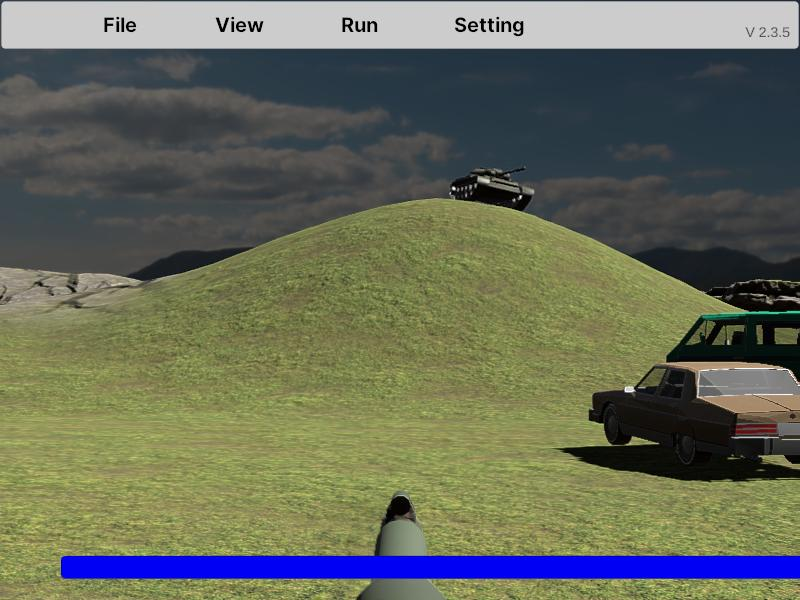Tank: (449, 166, 534, 211)
car: (587, 360, 800, 470)
